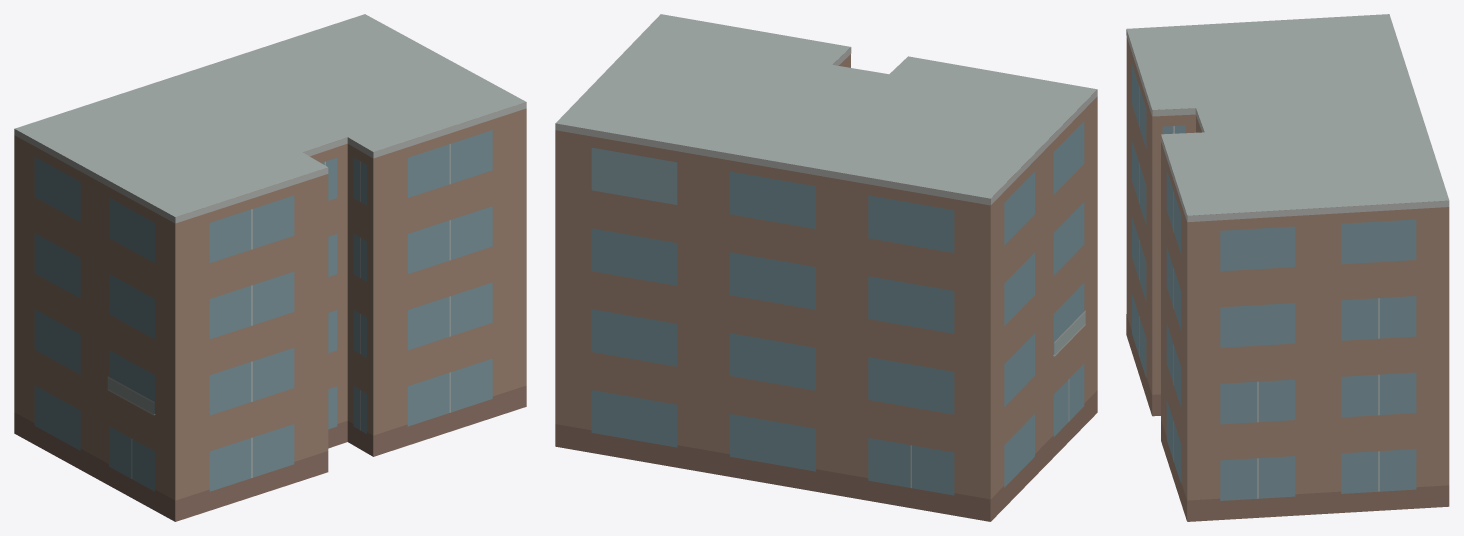
File: survey-upis-32542593.glb
3 renders of one model, left to right at view 1: azimuth 30°, elevation 25°; view 2: azimuth 150°, elevation 25°; view 3: azimuth 270°, elevation 25°, orthographic. The views are drawn at different scales.
Parts seen in each view (by area): view 1: survey-upis-32542593.tmp; view 2: survey-upis-32542593.tmp; view 3: survey-upis-32542593.tmp.
Part boxes in pixels (box(x1,y1,x2,y2)): survey-upis-32542593.tmp: box(14, 14, 526, 521); survey-upis-32542593.tmp: box(555, 14, 1097, 521); survey-upis-32542593.tmp: box(1126, 14, 1449, 521).
Size of the model in its own units: 16.41 by 11.6 by 11.1.
